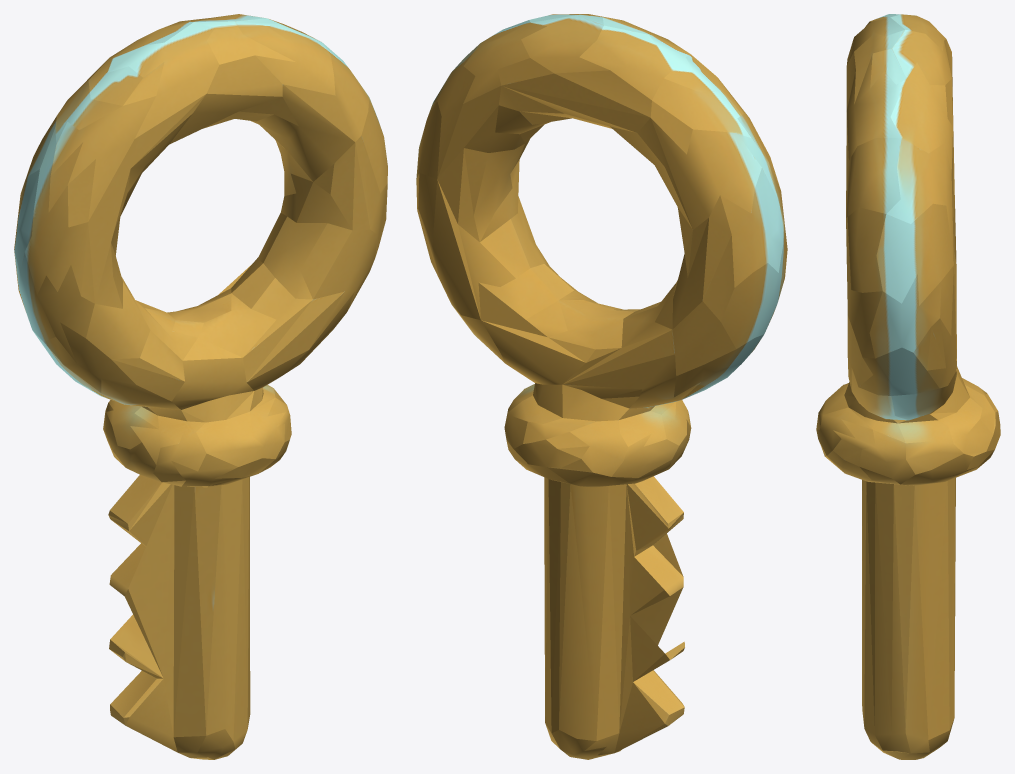
Rendered from key.glb.
3 views of the same model, side by side, from view 1: azimuth 30°, elevation 25°; view 2: azimuth 150°, elevation 25°; view 3: azimuth 270°, elevation 25° (orthographic). The views are drawn at different scales.
Size of the model in its own units: 0.9707 by 1.9 by 0.4418.
1 material, 1 textured.
